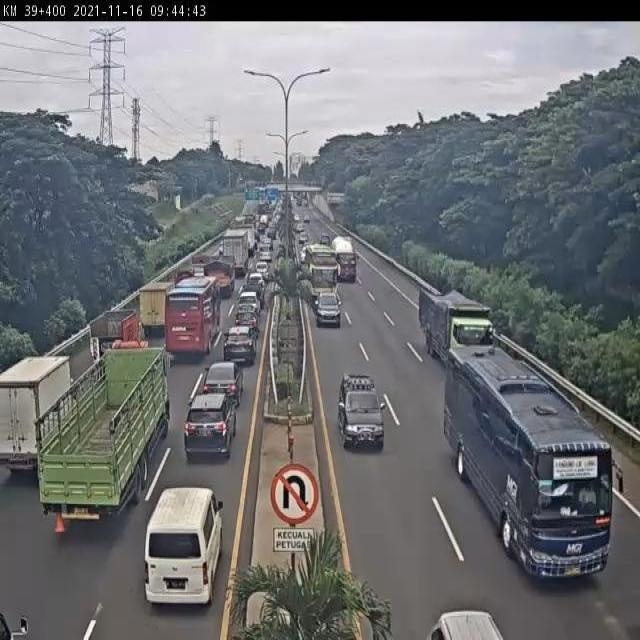Bus: (443, 338, 611, 577), (165, 277, 221, 355), (307, 244, 337, 297)
Car: (336, 373, 386, 450), (183, 391, 238, 460), (425, 610, 509, 640), (201, 361, 243, 408), (222, 325, 258, 365), (314, 293, 342, 328), (233, 306, 260, 342), (238, 284, 262, 314), (246, 272, 265, 296), (254, 261, 270, 281)
Truck: (38, 348, 170, 522), (0, 352, 70, 476), (333, 237, 357, 284)
Van: (144, 486, 222, 605)
